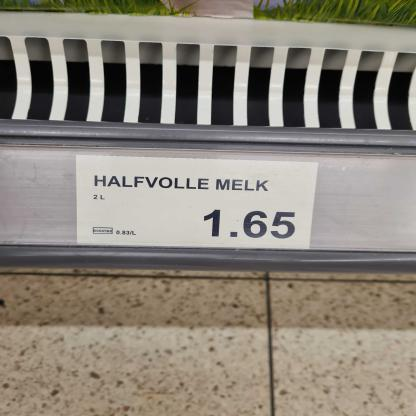prtg: (77, 156, 320, 251)
